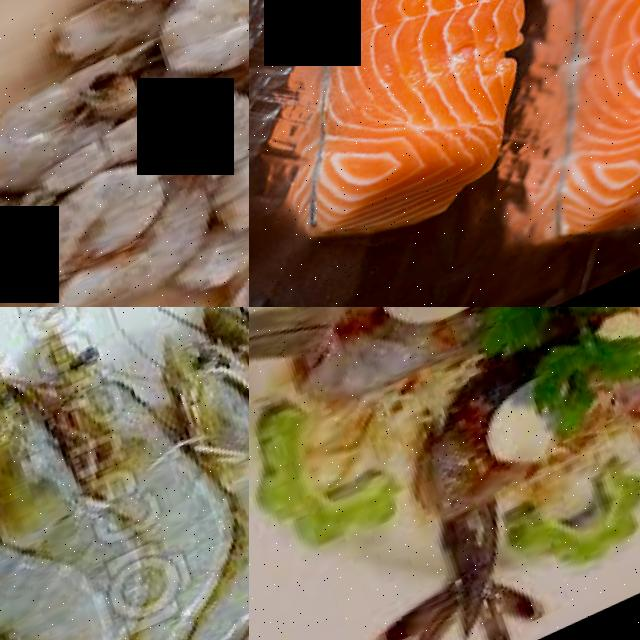salmon: (273, 0, 585, 257), (516, 0, 640, 266)
shrimp: (43, 307, 212, 573), (0, 49, 149, 199), (166, 352, 249, 598), (0, 376, 96, 576), (161, 63, 249, 260), (45, 156, 179, 275), (0, 537, 134, 640), (154, 0, 249, 101)
